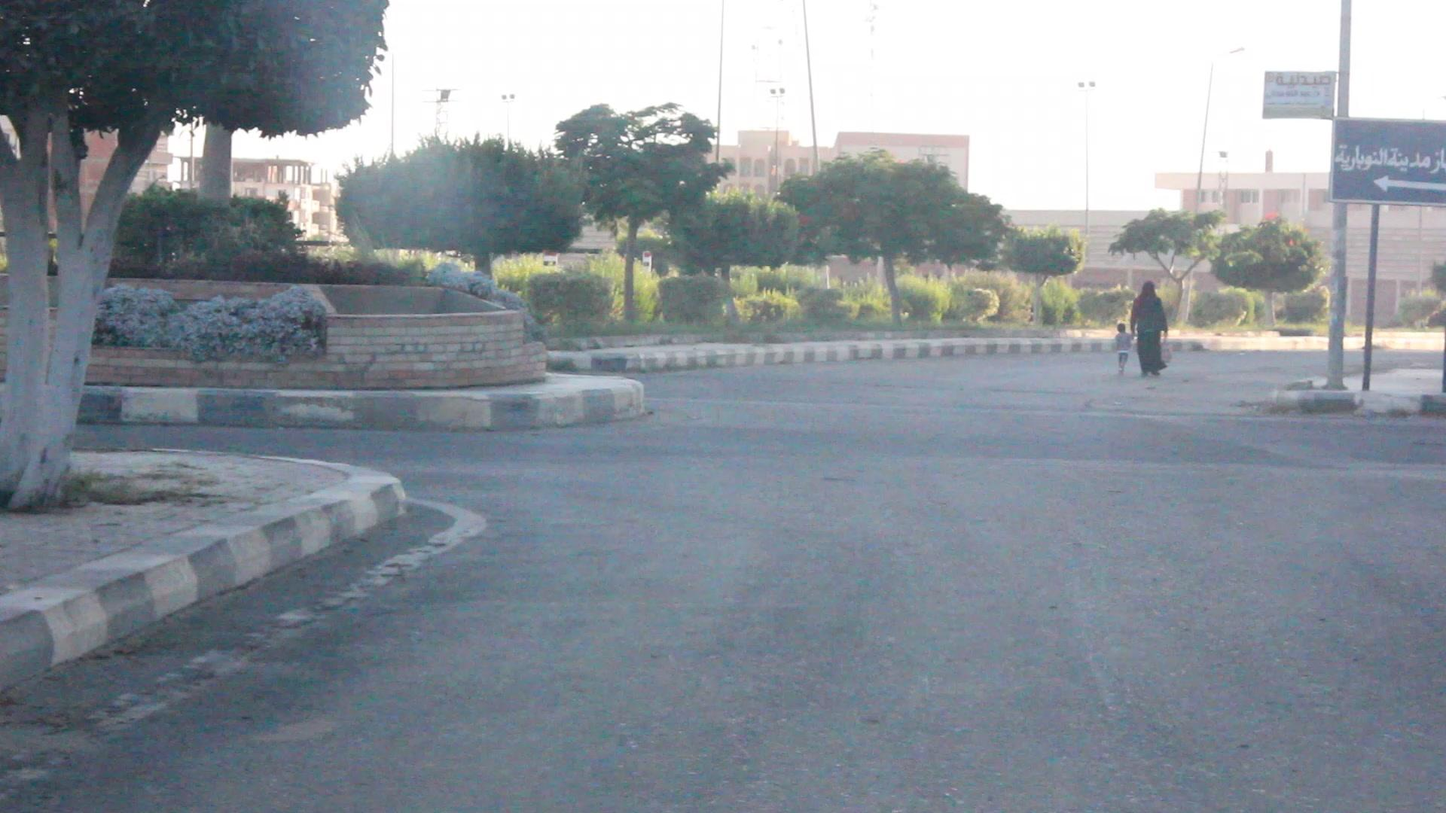Bump: (627, 401, 1374, 486)
